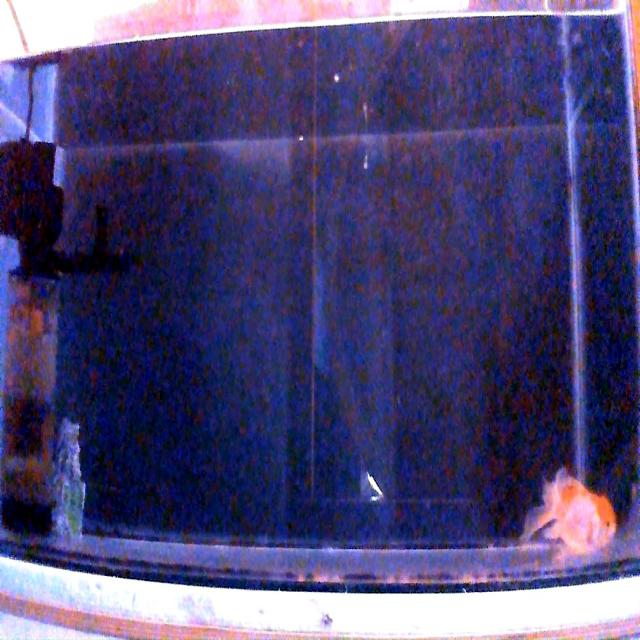fish: (521, 468, 618, 555)
